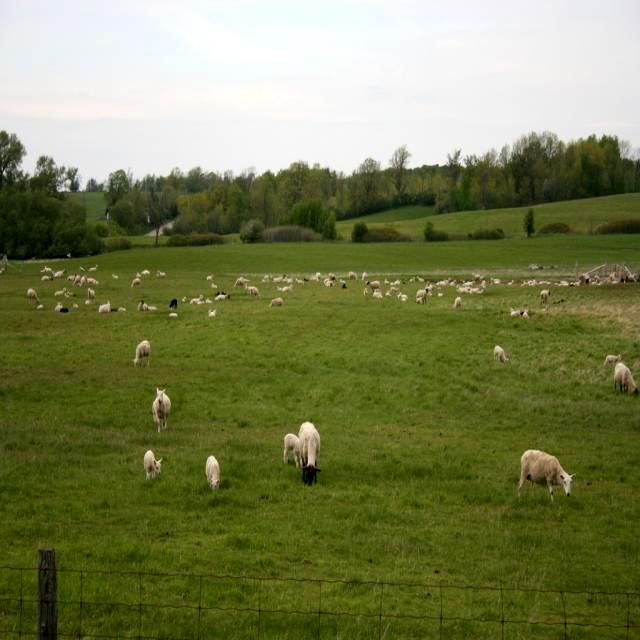sheep: (518, 449, 575, 500)
